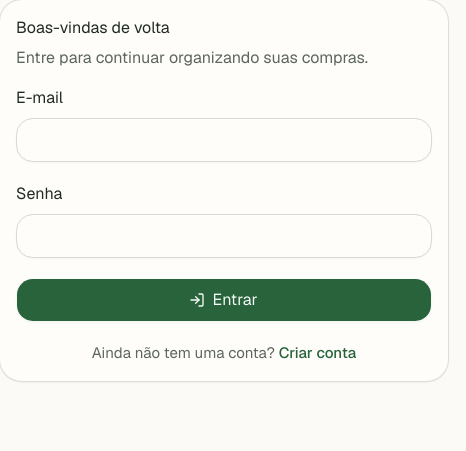
Test: AuthForm › shows client validation errors without submitting
What coordinates should you click on to do the following:
click the button "Entrar"
I would click on:
 (224, 300)
Its box is [16,278,432,322].
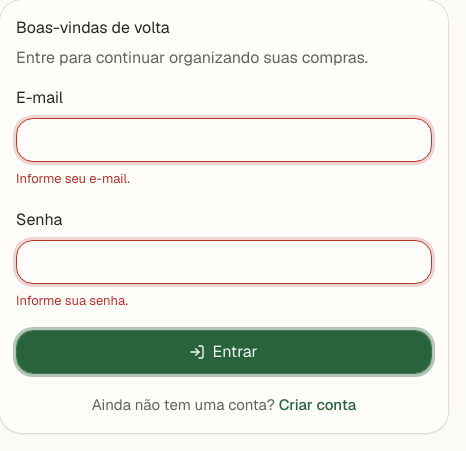
Expected: the text "Informe seu e-mail." is shown, [16,170,130,187]
Expected: the text "Informe sua senha." is shown, [16,292,128,309]
